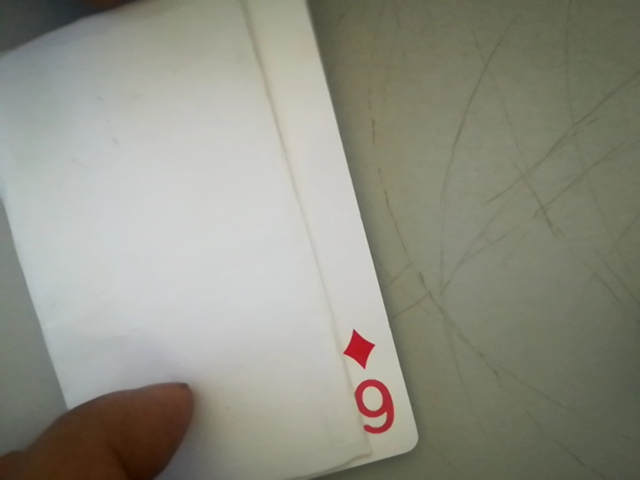fk 6: (334, 327, 407, 441)
